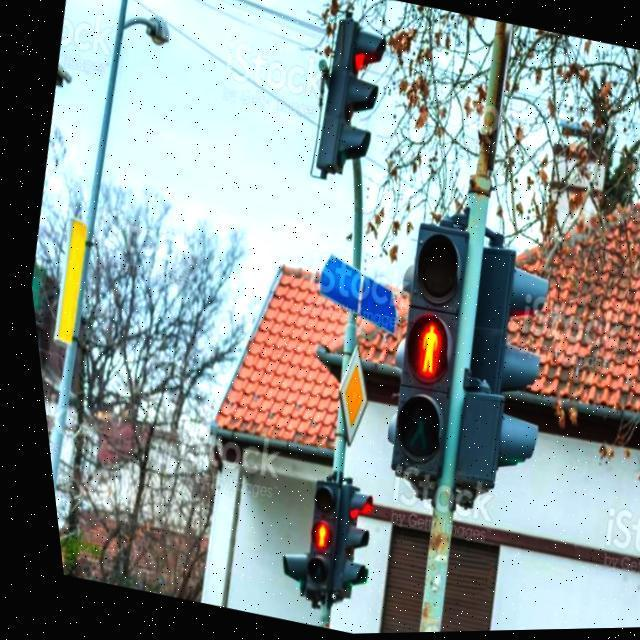redlight: (402, 228, 478, 394), (303, 475, 346, 560)
